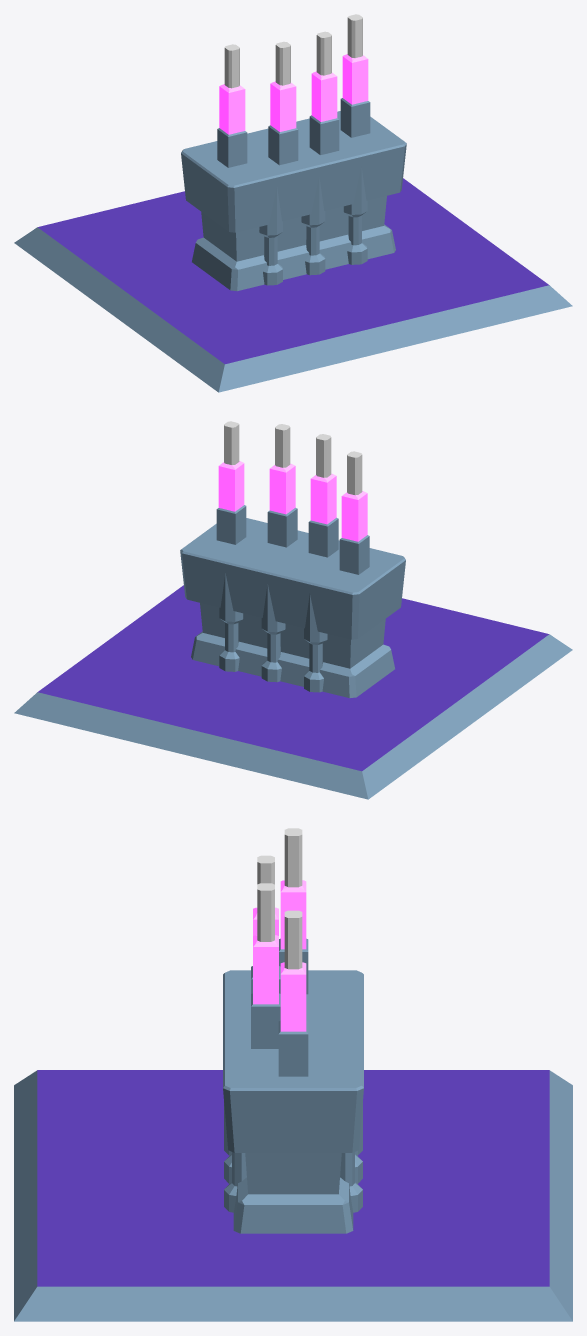
File: 12_aaltar_3.fbx
3 renders of one model, top to bottom at view 1: azimuth 30°, elevation 25°; view 2: azimuth 150°, elevation 25°; view 3: azimuth 270°, elevation 25°, orthographic. The views are drawn at different scales.
Visible parts, largest first — view 1: foundation_3; view 2: foundation_3; view 3: foundation_3.
Part boxes in pixels (x1,y1,x2,y2): foundation_3: (14, 14, 572, 392); foundation_3: (14, 421, 572, 799); foundation_3: (14, 828, 572, 1321).
Size of the model in its own units: 78.73 by 51.35 by 78.73.
